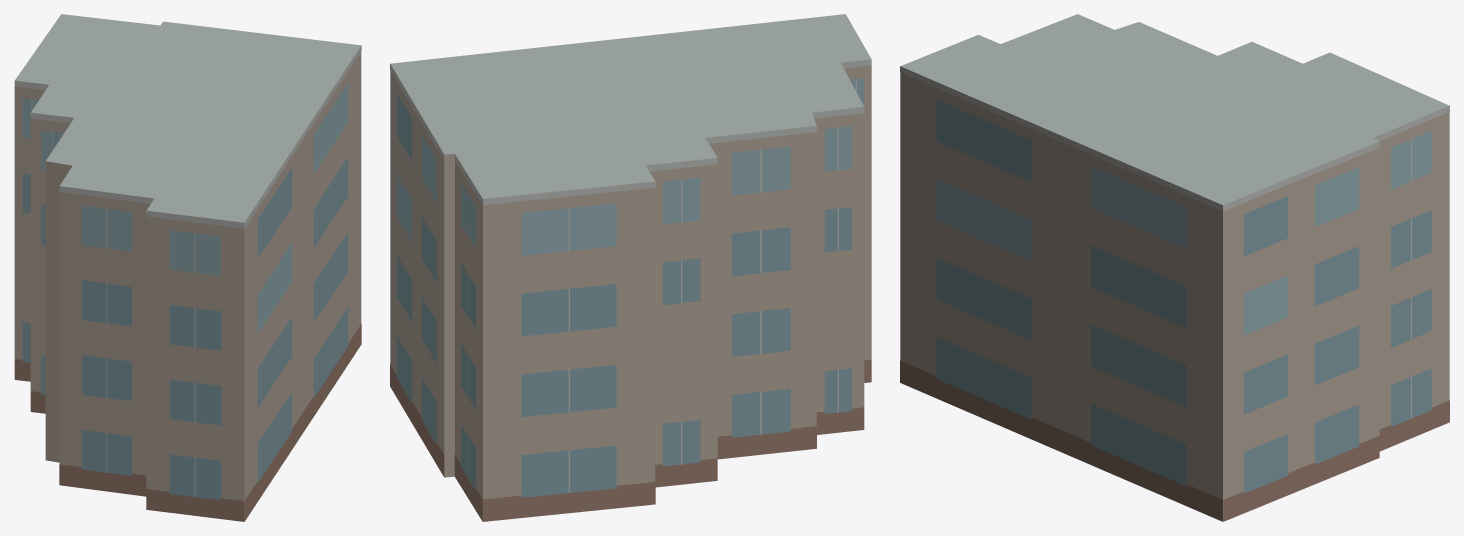
The model's file is survey-upis-32997337.glb.
3 views of the same model, side by side, from view 1: azimuth 30°, elevation 25°; view 2: azimuth 150°, elevation 25°; view 3: azimuth 270°, elevation 25° (orthographic). The views are drawn at different scales.
Visible parts, largest first — view 1: survey-upis-32997337.tmp; view 2: survey-upis-32997337.tmp; view 3: survey-upis-32997337.tmp.
Part boxes in pixels (<box>): survey-upis-32997337.tmp: <box>14,14,361,521</box>; survey-upis-32997337.tmp: <box>390,14,871,521</box>; survey-upis-32997337.tmp: <box>900,14,1449,521</box>.
Bounding box in the file's own units: 16.24 × 12.52 × 19.7.
